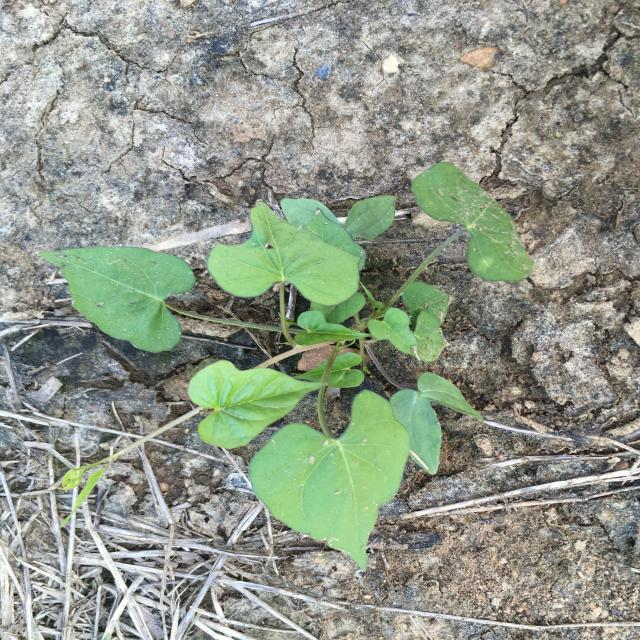MorningGlory: (38, 162, 534, 572)
